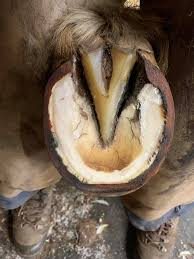horsesole: (42, 52, 176, 192)
